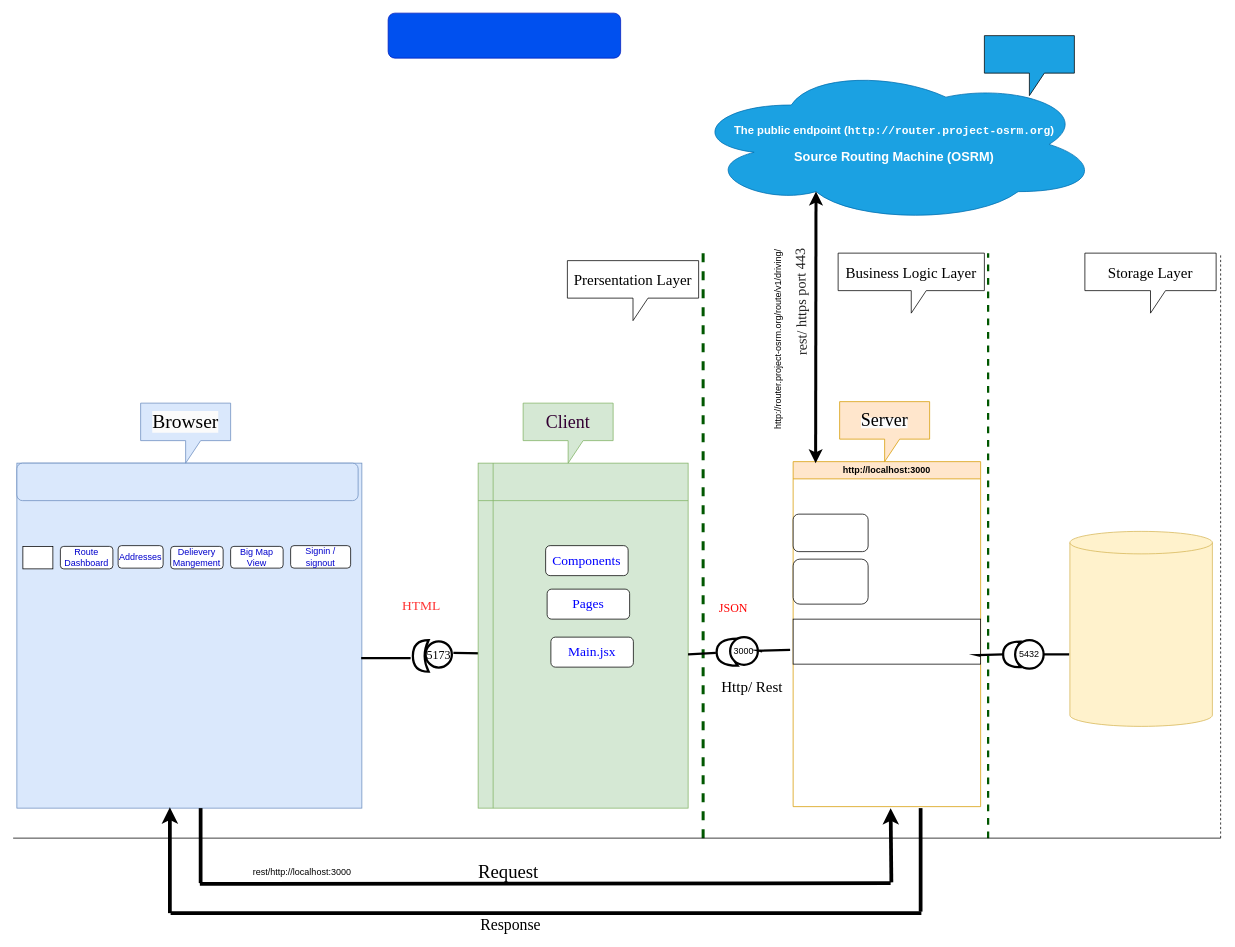
This 1235x947 diagram has some shape labels left out. The centre of each missing label's shape, as x and y in pixels:
Controller: point (830, 532)
Delivery System: point (504, 35)
Home: point (37, 557)
http://localhost:5173/: point (187, 481)
Internet: point (1029, 65)
POSTGRES DATABASE: point (1140, 628)
Routers: point (830, 581)
Server.js: point (886, 641)
